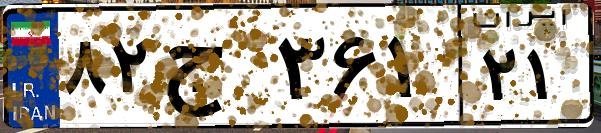1: (385, 28, 445, 110), (525, 38, 570, 115)
2: (475, 38, 525, 113), (110, 28, 158, 98)
3: (270, 28, 330, 110)
6: (330, 28, 385, 110)
8: (57, 26, 110, 100)
ج: (158, 20, 270, 120)
